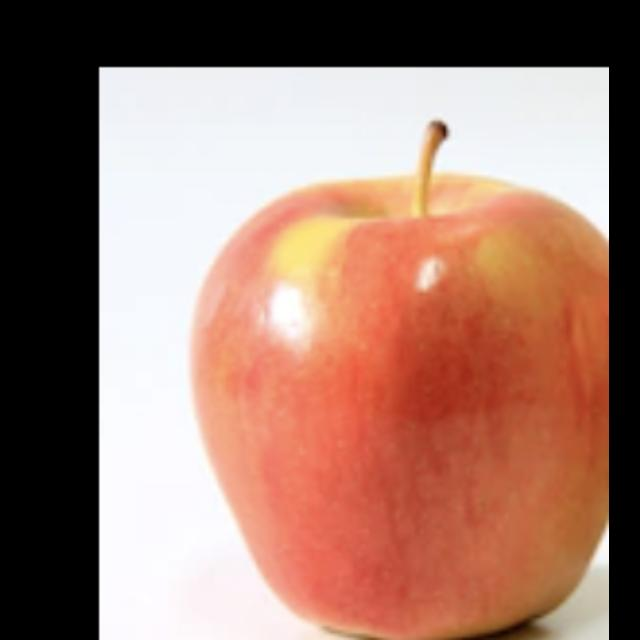Apel Segar: (180, 166, 608, 640)
